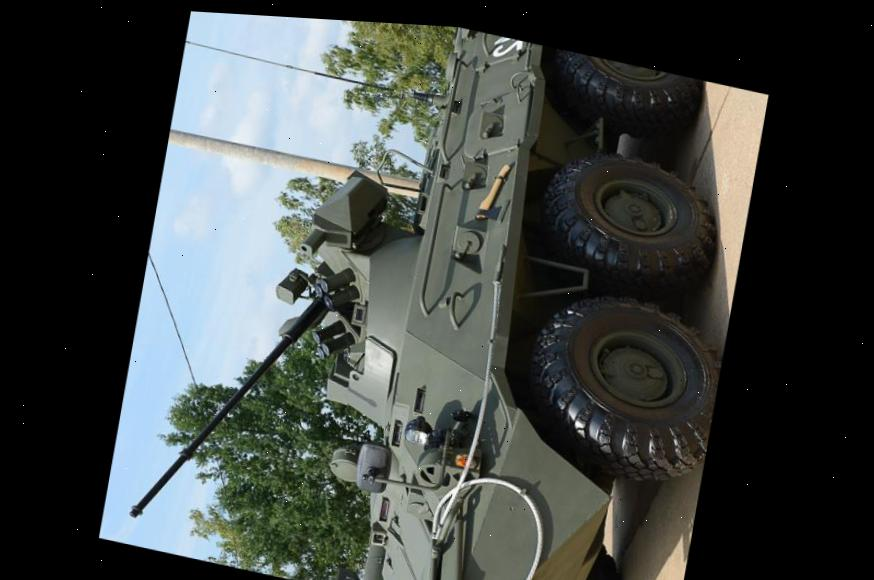tank: (119, 8, 769, 580), (328, 536, 514, 580)
